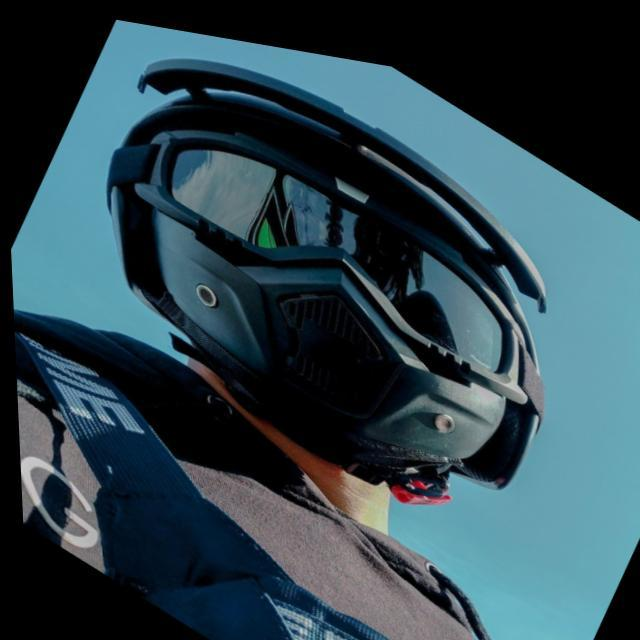Helmet: (92, 49, 564, 515)
